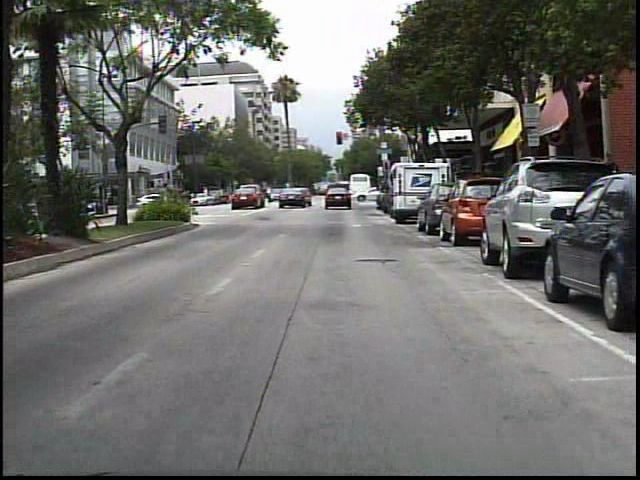person: (263, 182, 277, 206), (280, 183, 294, 205)
